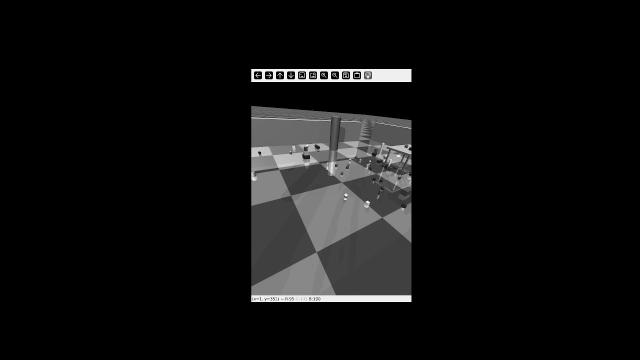cilindro: (329, 116, 345, 152), (379, 141, 388, 153), (250, 169, 258, 180), (387, 158, 394, 167), (362, 164, 371, 169), (372, 147, 379, 153), (325, 161, 330, 169), (315, 143, 320, 150), (376, 190, 383, 195), (369, 167, 374, 171), (372, 177, 377, 181), (335, 163, 339, 167), (354, 155, 358, 159)
cuadrado: (388, 166, 395, 173), (356, 157, 364, 163), (291, 145, 297, 152), (371, 151, 377, 157), (344, 166, 351, 171), (379, 177, 384, 183), (410, 147, 412, 152)
esfera: (341, 192, 352, 199), (407, 170, 412, 180), (402, 142, 409, 149), (284, 150, 293, 155), (397, 175, 404, 181), (257, 150, 263, 157), (383, 152, 388, 160), (397, 152, 402, 159), (379, 186, 387, 190), (348, 158, 352, 164), (340, 171, 344, 175), (368, 159, 371, 163), (346, 163, 349, 167), (305, 145, 308, 147)
rectangulo: (401, 186, 412, 195), (376, 159, 385, 163)
